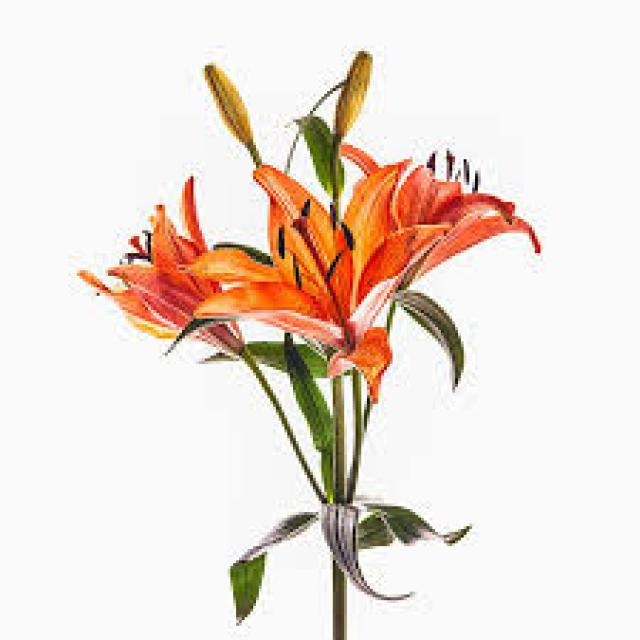lily: (217, 158, 462, 421)
